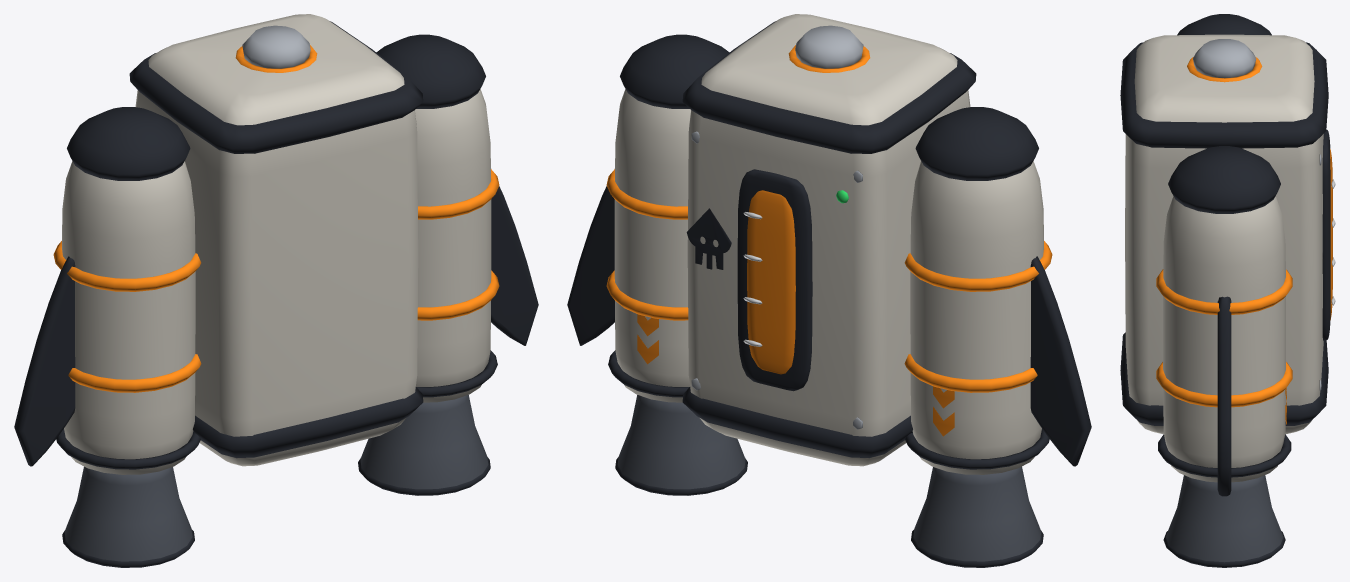
File: special_jetpack.glb
The picture shows the model from 3 angles, left to right: view 1: azimuth 30°, elevation 25°; view 2: azimuth 150°, elevation 25°; view 3: azimuth 270°, elevation 25°; orthographic projection. The views are drawn at different scales.
Visible parts, largest first — view 1: body, ink; view 2: body, ink; view 3: body, ink.
Part boxes in pixels (box(x1,y1,x2,y2)): body: box(14, 14, 538, 567); ink: box(53, 45, 499, 392); body: box(567, 14, 1091, 567); ink: box(606, 45, 1052, 436); body: box(1120, 14, 1335, 567); ink: box(1156, 57, 1332, 424).
Bounding box in the file's own units: 0.4863 × 0.421 × 0.19.
